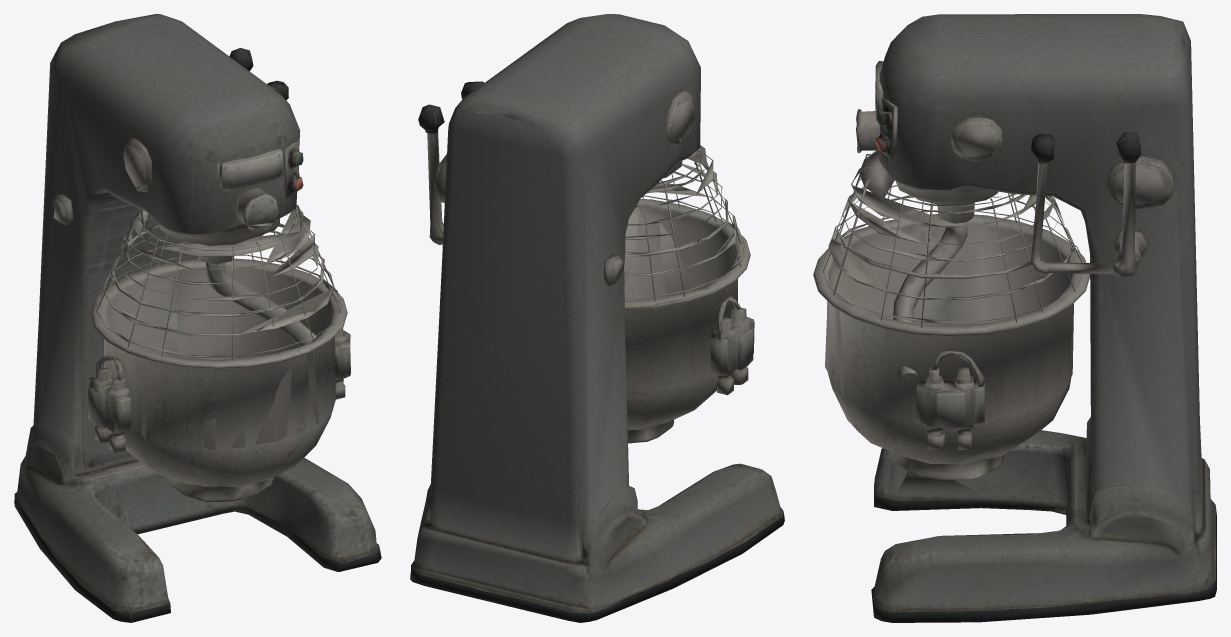
File: p7-stand-mixer-t25.glb
3 renders of one model, left to right at view 1: azimuth 30°, elevation 25°; view 2: azimuth 150°, elevation 25°; view 3: azimuth 270°, elevation 25°, orthographic. The views are drawn at different scales.
Parts seen in each view (by area): view 1: p7-stand-mixer-t25; view 2: p7-stand-mixer-t25; view 3: p7-stand-mixer-t25.
Boxes of the visible parts, x1=… form: p7-stand-mixer-t25: x1=14, y1=14, x2=381, y2=622; p7-stand-mixer-t25: x1=410, y1=14, x2=784, y2=622; p7-stand-mixer-t25: x1=813, y1=14, x2=1216, y2=622.
Bounding box in the file's own units: 0.5 × 0.85 × 0.6.
Materials: 1 (1 with a texture image).
